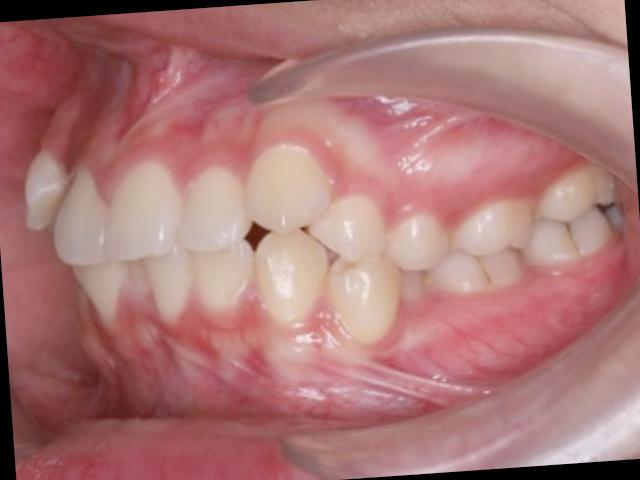canine class II 1/2: (234, 133, 406, 352)
molar class III 1/2: (421, 190, 543, 312)
